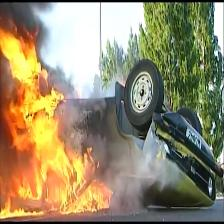smoke: (2, 37, 56, 212)
